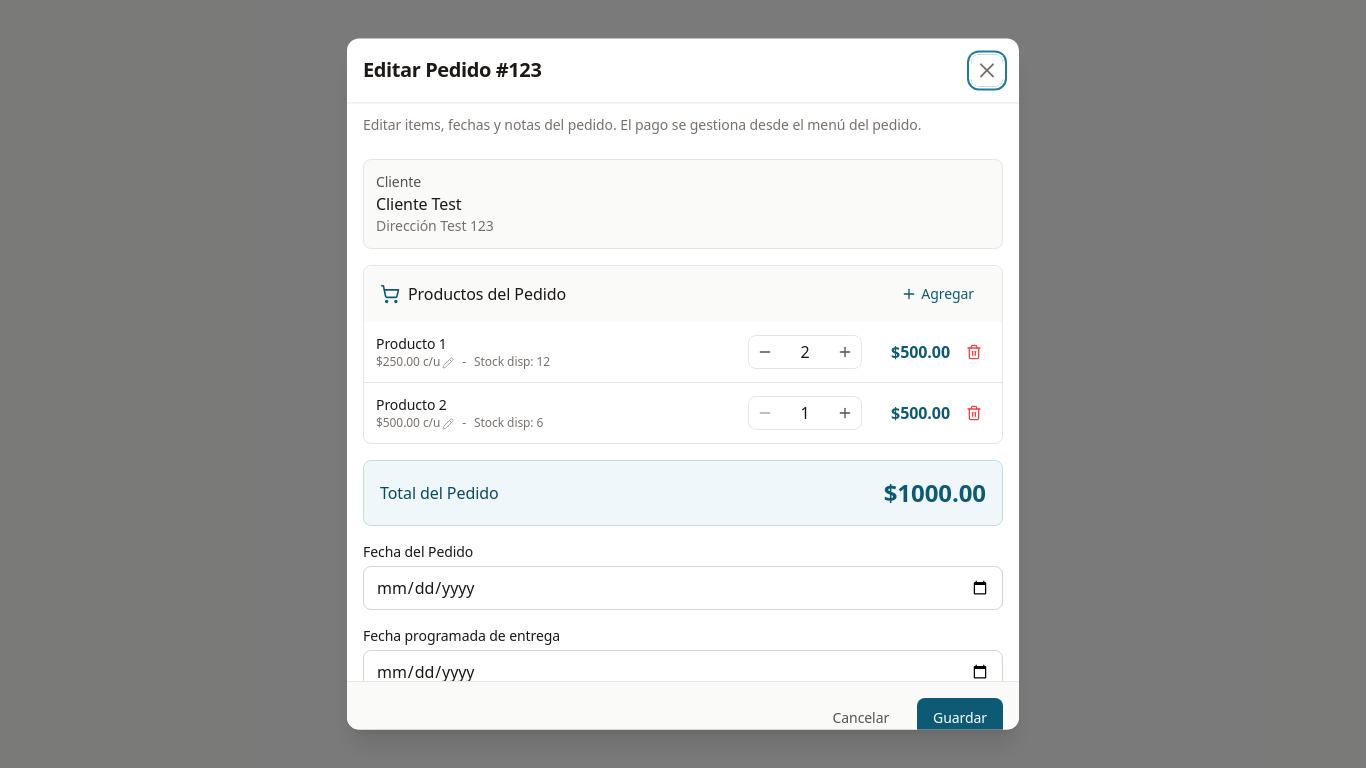
Scenario: ModalEditarPedido › Edición de items (Admin) › muestra buscador de productos al hacer clic en Agregar
Click the button "Agregar". click: {"x": 938, "y": 294}
box: [889, 278, 986, 310]
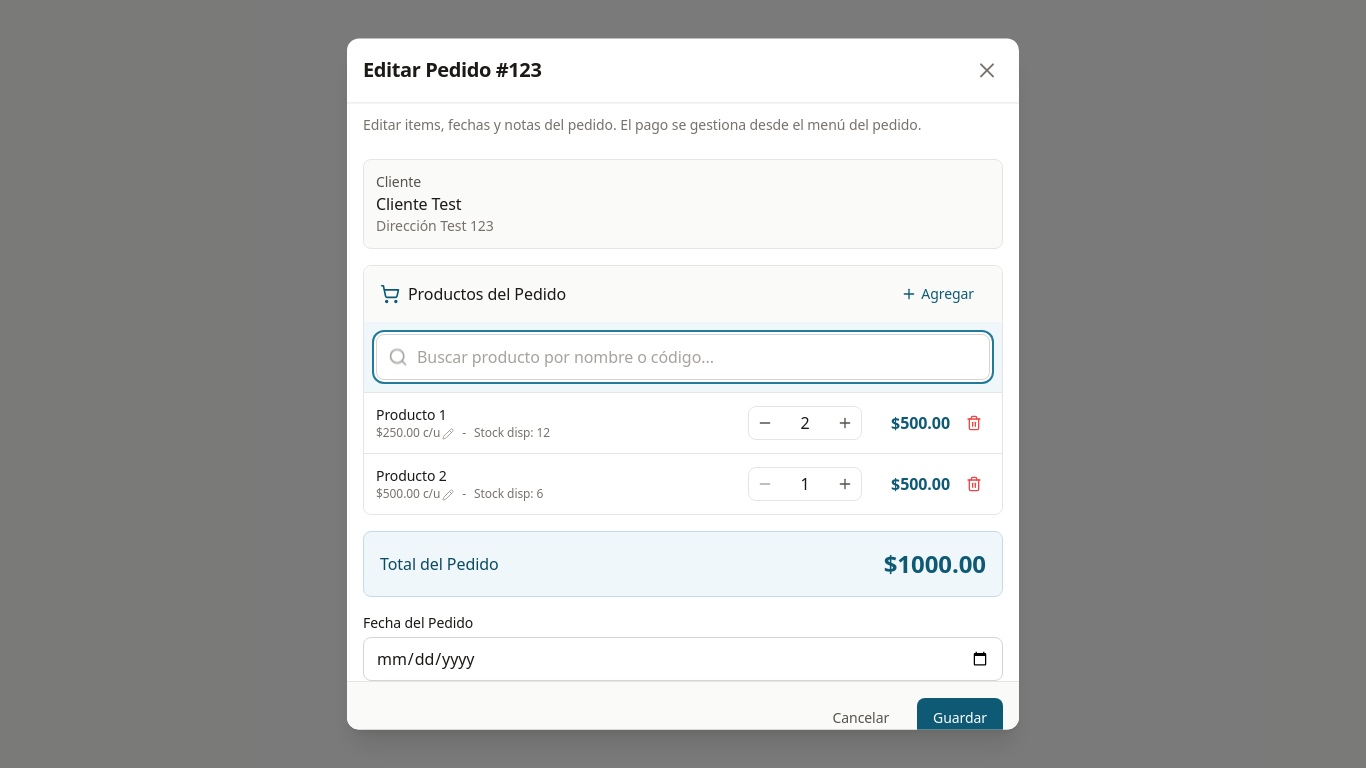
Result: the field with placeholder "Buscar producto por nombre o código..." is shown at [376, 334, 990, 380]
